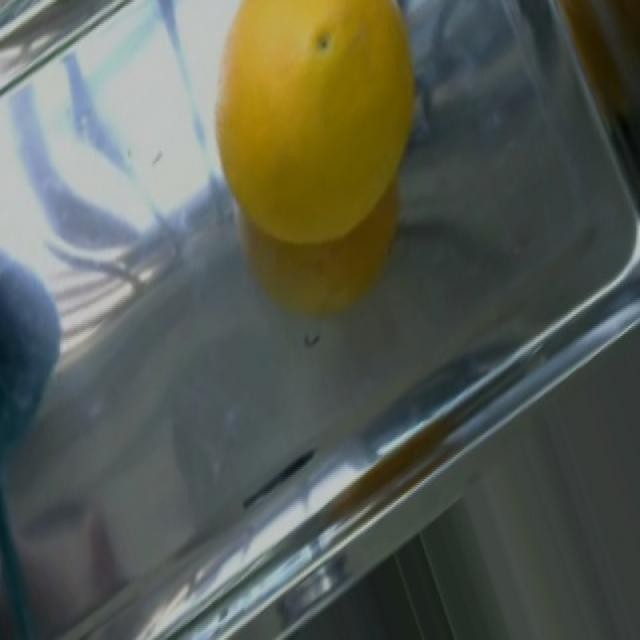Fruit: (196, 0, 441, 322)
